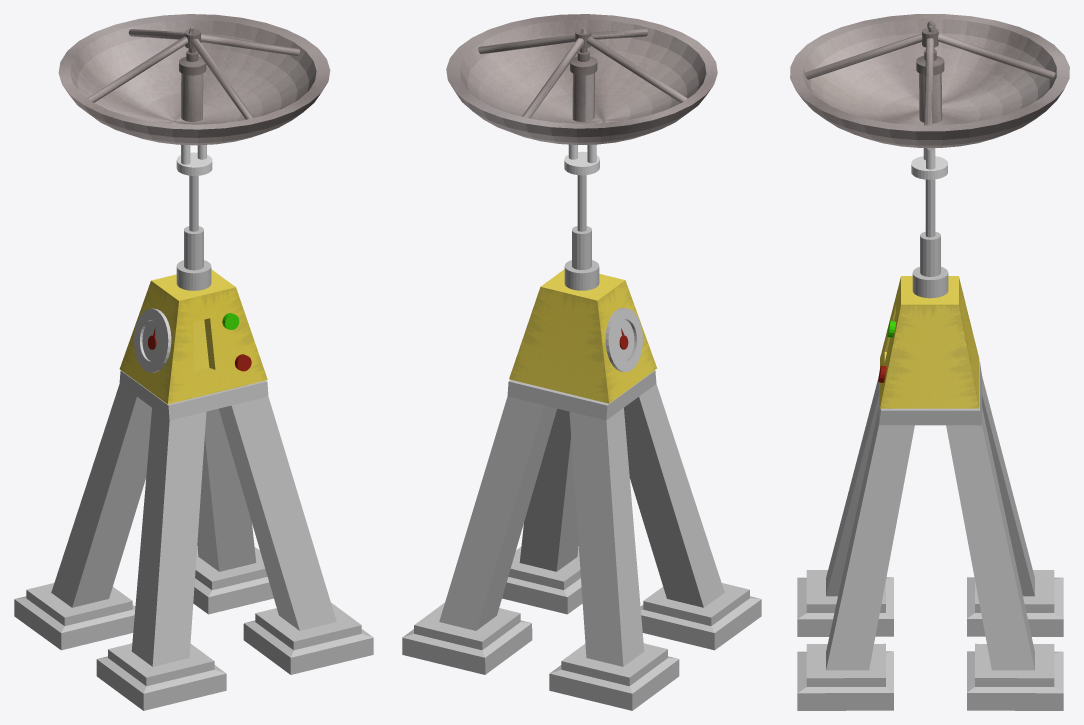
File: antena new.fbx
3 views of the same model, side by side, from view 1: azimuth 30°, elevation 25°; view 2: azimuth 150°, elevation 25°; view 3: azimuth 270°, elevation 25° (orthographic). The views are drawn at different scales.
Parts seen in each view (by area): view 1: Cylinder.003, Cylinder.002, Cylinder.010, Plane, Cylinder.012, Cylinder.008, Cylinder.004, Cylinder.001; view 2: Cylinder.003, Cylinder.002, Cylinder.010, Plane, Cylinder.012, Cylinder.008, Cylinder.004, Cylinder.001; view 3: Cylinder.003, Cylinder.002, Cylinder.010, Plane, Cylinder.012, Cylinder.008, Cylinder.001.
Boxes of the visible parts, x1=… form: Cylinder.003: x1=51, y1=370, x2=336, y2=666; Cylinder.002: x1=58, y1=14, x2=330, y2=145; Cylinder.010: x1=14, y1=547, x2=373, y2=710; Plane: x1=119, y1=269, x2=267, y2=404; Cylinder.012: x1=87, y1=27, x2=299, y2=121; Cylinder.008: x1=176, y1=175, x2=211, y2=290; Cylinder.004: x1=134, y1=308, x2=171, y2=372; Cylinder.001: x1=176, y1=145, x2=212, y2=175; Cylinder.003: x1=439, y1=370, x2=724, y2=666; Cylinder.002: x1=446, y1=14, x2=717, y2=144; Cylinder.010: x1=402, y1=547, x2=761, y2=710; Plane: x1=509, y1=269, x2=657, y2=403; Cylinder.012: x1=478, y1=27, x2=687, y2=121; Cylinder.008: x1=564, y1=175, x2=599, y2=290; Cylinder.004: x1=605, y1=308, x2=642, y2=371; Cylinder.001: x1=564, y1=144, x2=599, y2=175; Cylinder.003: x1=826, y1=361, x2=1034, y2=670; Cylinder.002: x1=790, y1=14, x2=1069, y2=147; Cylinder.010: x1=797, y1=570, x2=1063, y2=710; Plane: x1=880, y1=276, x2=979, y2=408; Cylinder.012: x1=804, y1=21, x2=1055, y2=125; Cylinder.008: x1=912, y1=179, x2=948, y2=298; Cylinder.001: x1=911, y1=148, x2=947, y2=179.
Size of the model in its own units: 845 by 2097 by 850.
